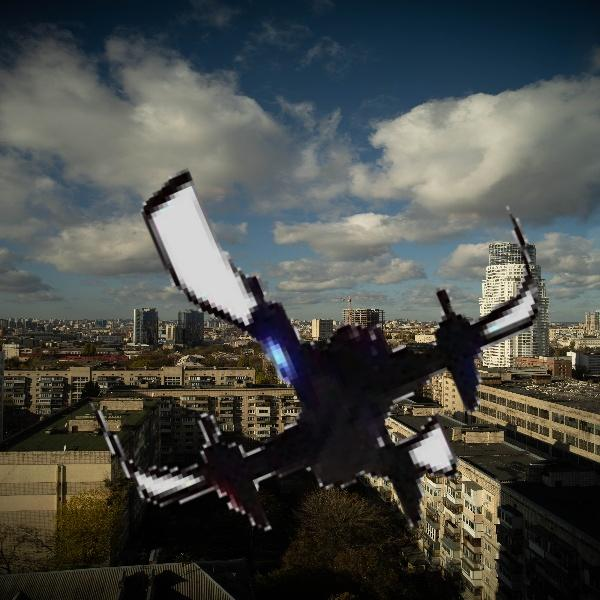drone: (80, 90, 564, 574)
